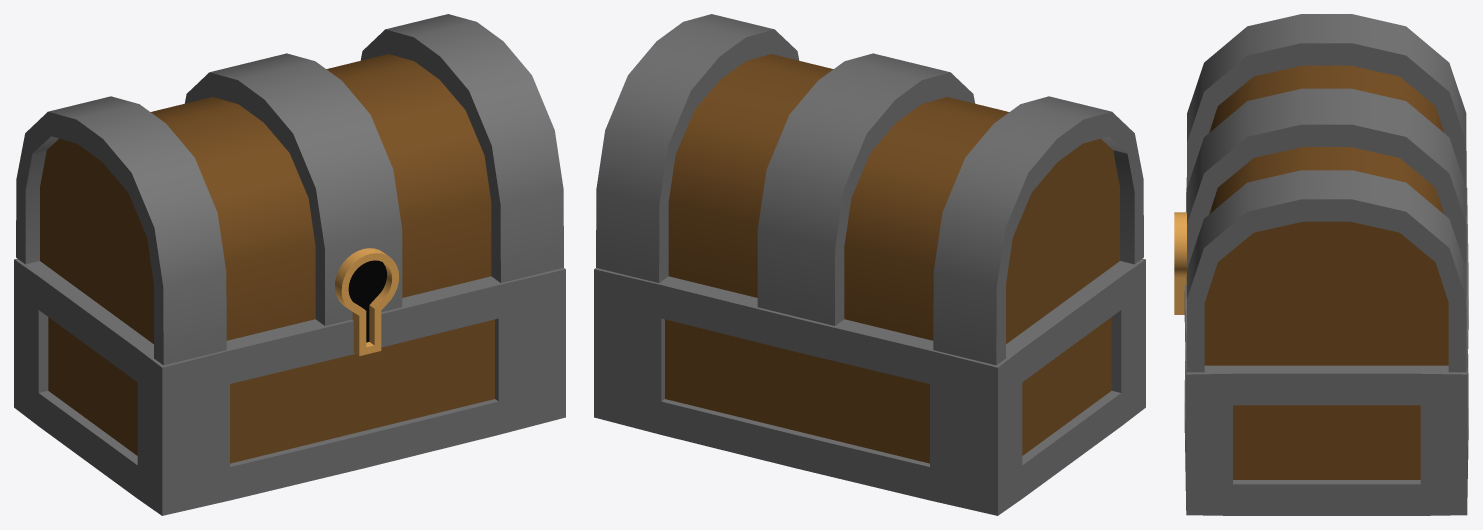
The model's file is SimpleChest.2024.07.06.fbx.
The picture shows the model from 3 angles, left to right: view 1: azimuth 30°, elevation 25°; view 2: azimuth 150°, elevation 25°; view 3: azimuth 270°, elevation 25°; orthographic projection. The views are drawn at different scales.
Parts seen in each view (by area): view 1: Cube.001, Cube; view 2: Cube.001, Cube; view 3: Cube.001, Cube.
Part boxes in pixels (left/top/right/bottom): Cube.001: left=16, top=14, right=563, bottom=365; Cube: left=14, top=258, right=565, bottom=515; Cube.001: left=596, top=14, right=1143, bottom=365; Cube: left=594, top=258, right=1145, bottom=515; Cube.001: left=1174, top=14, right=1466, bottom=372; Cube: left=1184, top=188, right=1468, bottom=515.
Bounding box in the file's own units: 210 × 166 × 140.
